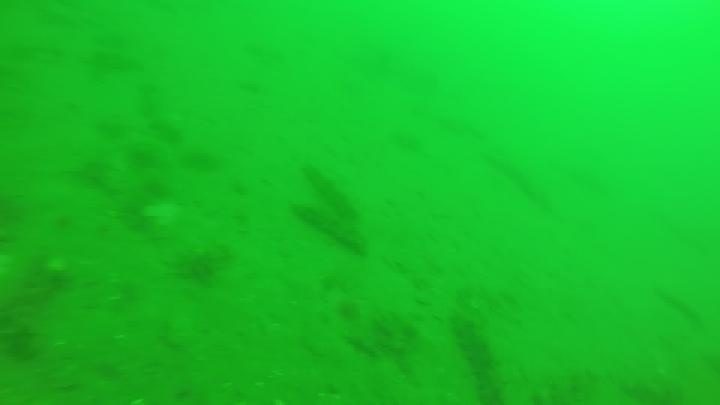holothurian: (297, 161, 369, 247), (448, 310, 508, 405), (289, 196, 370, 257)
